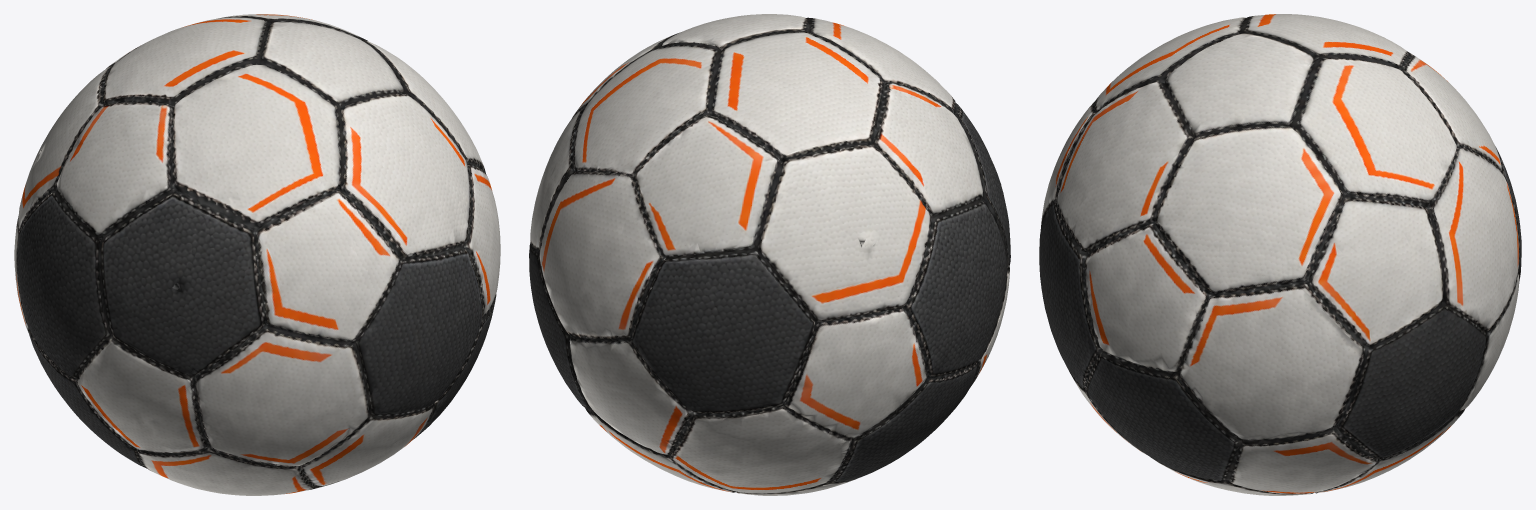
Rendered from ball.glb.
The picture shows the model from 3 angles, left to right: view 1: azimuth 30°, elevation 25°; view 2: azimuth 150°, elevation 25°; view 3: azimuth 270°, elevation 25°; orthographic projection.
Parts seen in each view (by area): view 1: dirty_football_LOD0; view 2: dirty_football_LOD0; view 3: dirty_football_LOD0.
Boxes of the visible parts, x1,y1,x2,y2 form: dirty_football_LOD0: (14, 14, 500, 495); dirty_football_LOD0: (529, 14, 1010, 495); dirty_football_LOD0: (1039, 14, 1521, 495).
Size of the model in its own units: 0.2214 by 0.22 by 0.22.
Materials: 1 (1 with a texture image).
